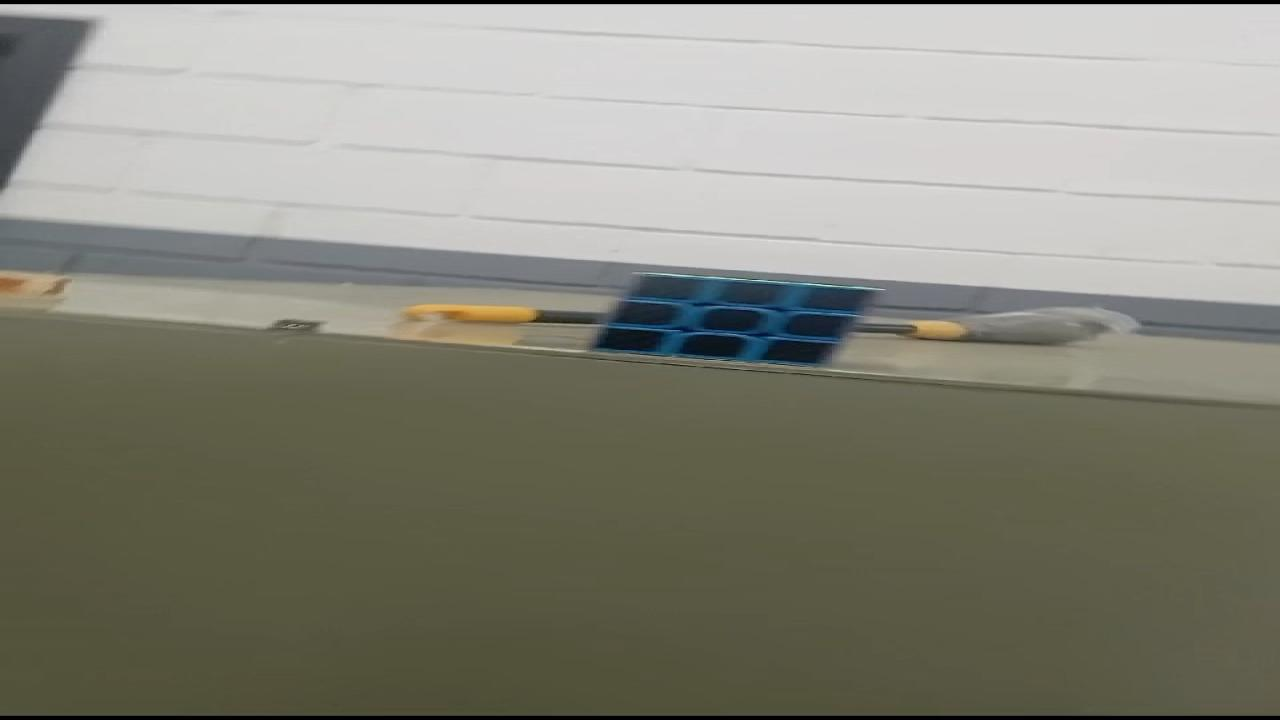Cube: (584, 271, 885, 367)
